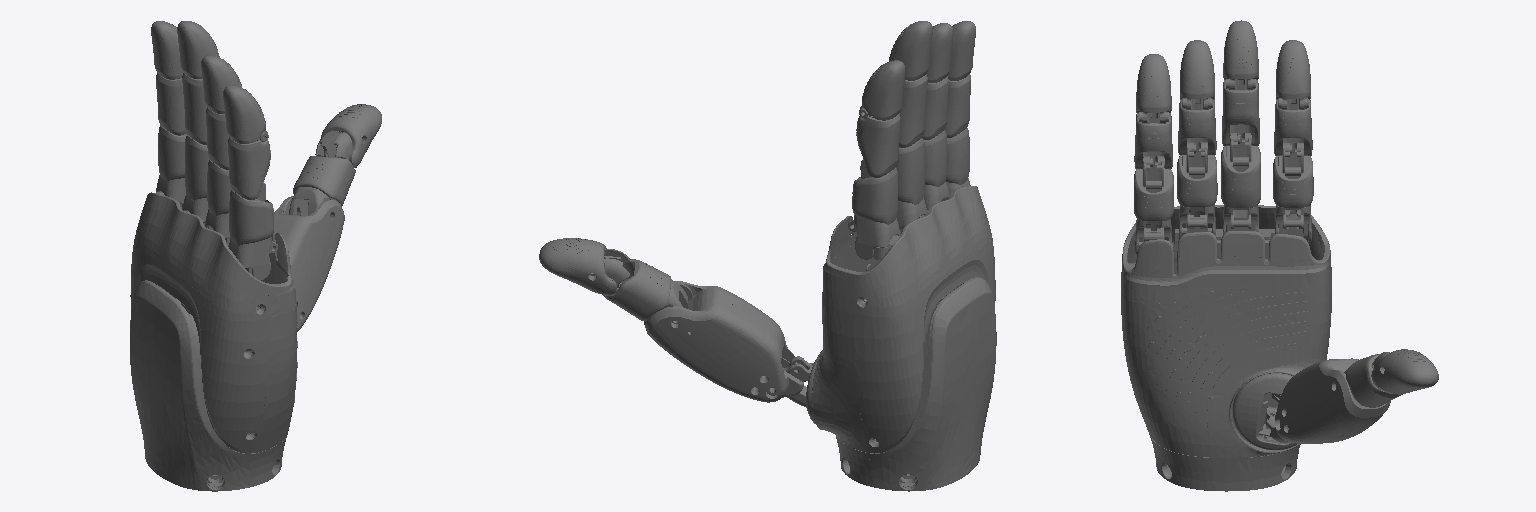
robot.urdf — omnihand_pro_right:
<?xml version="1.0" ?>
<!-- =================================================================================== -->
<!-- |    This document was autogenerated by xacro from xacro/omnihand_pro_right.xacro | -->
<!-- |    EDITING THIS FILE BY HAND IS NOT RECOMMENDED                                 | -->
<!-- =================================================================================== -->
<robot name="omnihand_pro_right">
  <material name="black">
    <color rgba="0.5 0.5 0.5 1.0"/>
  </material>
  <link name="base_link">
    <visual>
      <origin rpy="0.0 0.0 0.0" xyz="0.0 0.0 0.0"/>
      <geometry>
        <box size="0.001 0.001 0.001"/>
      </geometry>
    </visual>
  </link>
  <joint name="R_palm_joint" type="fixed">
    <origin rpy="0.0 0.0 0.0" xyz="0.0 0.0 0.0"/>
    <parent link="base_link"/>
    <child link="R_palm"/>
  </joint>
  <link name="R_palm">
    <visual>
      <origin rpy="0 0 0" xyz="0 0 0"/>
      <geometry>
        <mesh filename="package://omnihand_pro_description/meshes/r_palm.STL"/>
      </geometry>
      <material name="black"/>
    </visual>
    <inertial>
      <origin rpy="0 0 0" xyz="-0.00425607657857528 -0.000984907743219104 0.0569954669646572"/>
      <mass value="0.831592534870634"/>
      <inertia ixx="0.00130295787397277" ixy="-1.00395530019145e-06" ixz="-2.62221439754335e-05" iyy="0.000759187526142393" iyz="2.944807671301e-05" izz="0.000650439149629946"/>
    </inertial>
    <collision>
      <origin rpy="0 0 0" xyz="0 0 0.005"/>
      <geometry>
        <cylinder length="0.01" radius="0.032"/>
      </geometry>
    </collision>
    <collision>
      <origin rpy="0 0 0" xyz="0 0 0.057"/>
      <geometry>
        <box size="0.05 0.09 0.09"/>
      </geometry>
    </collision>
  </link>
  <!-- thumb  -->
  <link name="R_thumb_roll_link">
    <visual>
      <origin rpy="0 0 0" xyz="0 0 0"/>
      <geometry>
        <mesh filename="package://omnihand_pro_description/meshes/r_thumb_roll.STL"/>
      </geometry>
      <material name="black"/>
    </visual>
    <inertial>
      <origin rpy="0 0 0" xyz="0.0238985392698507 8.492755494241e-05 0.00143588019194235"/>
      <mass value="0.0487218724123021"/>
      <inertia ixx="1.16014813613108e-05" ixy="-1.23718071545455e-07" ixz="-3.36389573955908e-07" iyy="6.59632610273689e-06" iyz="-2.95789245057348e-07" izz="6.64077304903063e-06"/>
    </inertial>
  </link>
  <joint name="R_thumb_roll_joint" type="revolute">
    <origin rpy="-1.7628 0 0" xyz="-0.00148 0.022278 0.04025"/>
    <parent link="R_palm"/>
    <child link="R_thumb_roll_link"/>
    <axis xyz="1 0 0"/>
    <limit effort="0.134" lower="0" upper="0.73" velocity="2.38"/>
  </joint>
  <link name="R_thumb_abad_link">
    <visual>
      <origin rpy="0 0 0" xyz="0 0 0"/>
      <geometry>
        <mesh filename="package://omnihand_pro_description/meshes/r_thumb_abad.STL"/>
      </geometry>
      <material name="black"/>
    </visual>
    <inertial>
      <origin rpy="0 0 0" xyz="0.00144112186551029 -0.00076971553695547 0.0110530851904386"/>
      <mass value="0.00527730022012764"/>
      <inertia ixx="5.13938107714071e-07" ixy="2.10724699229959e-09" ixz="1.0099134807133e-08" iyy="3.23678037229255e-07" iyz="-6.91586588373309e-08" izz="2.43364847603047e-07"/>
    </inertial>
    <collision>
      <origin rpy="0 0 0.9" xyz="0 0 0"/>
      <geometry>
        <box size="0.035 0.006 0.02"/>
      </geometry>
    </collision>
  </link>
  <joint name="R_thumb_abad_joint" type="revolute">
    <origin rpy="0 1.0996 0" xyz="0.029071 0 0.0033014"/>
    <parent link="R_thumb_roll_link"/>
    <child link="R_thumb_abad_link"/>
    <axis xyz="0 -1 0"/>
    <limit effort="0.317" lower="-0.94" upper="0" velocity="2.33"/>
  </joint>
  <link name="R_thumb_mcp_link">
    <visual>
      <origin rpy="0 0 0" xyz="0 0 0"/>
      <geometry>
        <mesh filename="package://omnihand_pro_description/meshes/thumb_mcp.STL"/>
      </geometry>
      <material name="black"/>
    </visual>
    <inertial>
      <origin rpy="0 0 0" xyz="0.00248919792890584 0.000126945293118824 0.0270125022282254"/>
      <mass value="0.0238744814807847"/>
      <inertia ixx="9.14065262802198e-06" ixy="1.29455343848178e-08" ixz="1.28925259059347e-07" iyy="1.13640026182741e-05" iyz="-1.59529488365259e-08" izz="2.86247043401986e-06"/>
    </inertial>
    <collision>
      <origin rpy="0 1.57 0" xyz="0.005 0 0.03"/>
      <geometry>
        <box size="0.064 0.023 0.03"/>
      </geometry>
    </collision>
  </link>
  <joint name="R_thumb_mcp_joint" type="revolute">
    <origin rpy="0 0.66452 -1.5708" xyz="0.0016774 -0.0068611 0.022935"/>
    <parent link="R_thumb_abad_link"/>
    <child link="R_thumb_mcp_link"/>
    <axis xyz="0 -1 0"/>
    <limit effort="0.8" lower="-0.85" upper="0" velocity="1.35"/>
  </joint>
  <link name="R_thumb_pip_link">
    <visual>
      <origin rpy="0 0 0" xyz="0 0 0"/>
      <geometry>
        <mesh filename="package://omnihand_pro_description/meshes/thumb_pip.STL"/>
      </geometry>
      <material name="black"/>
    </visual>
    <inertial>
      <origin rpy="0 0 0" xyz="-0.00238172899603142 0.000356731641777103 0.0132495532127846"/>
      <mass value="0.015089750823072"/>
      <inertia ixx="1.307652825223e-06" ixy="2.30842431261842e-09" ixz="1.78861814916216e-07" iyy="1.76921581769367e-06" iyz="1.30568351519278e-08" izz="8.42951187578533e-07"/>
    </inertial>
    <collision>
      <origin rpy="0 0 0" xyz="0 0.002 0.02"/>
      <geometry>
        <cylinder length="0.02" radius="0.01"/>
      </geometry>
    </collision>
  </link>
  <joint name="R_thumb_pip_joint" type="revolute">
    <origin rpy="0 0 0" xyz="0.0067768 0 0.05582"/>
    <parent link="R_thumb_mcp_link"/>
    <child link="R_thumb_pip_link"/>
    <axis xyz="0  -1 0"/>
    <limit effort="0.92" lower="-1.29" upper="0" velocity="1.87"/>
  </joint>
  <link name="R_thumb_dip_link">
    <visual>
      <origin rpy="0 0 0" xyz="0 0 0"/>
      <geometry>
        <mesh filename="package://omnihand_pro_description/meshes/thumb_dip.STL"/>
      </geometry>
      <material name="black"/>
    </visual>
    <inertial>
      <origin rpy="0 0 0" xyz="-0.00103086462486497 -4.35579912222428e-07 0.0111718009868479"/>
      <mass value="0.0166245749238282"/>
      <inertia ixx="1.55367650349561e-06" ixy="-6.28496740782693e-11" ixz="-2.68802086888384e-07" iyy="1.43025255900936e-06" iyz="-3.60153740856451e-11" izz="8.87371852515915e-07"/>
    </inertial>
    <collision>
      <origin rpy="0 0 0" xyz="0 0 0.015"/>
      <geometry>
        <cylinder length="0.03" radius="0.01"/>
      </geometry>
    </collision>
  </link>
  <joint name="R_thumb_dip_joint" type="revolute">
    <origin rpy="0 0 0" xyz=" -0.0025791  0 0.034516"/>
    <parent link="R_thumb_pip_link"/>
    <child link="R_thumb_dip_link"/>
    <axis xyz="0 -1 0"/>
    <limit effort="0.92" lower="-1.31" upper="0" velocity="1.9"/>
    <mimic joint="R_thumb_pip_joint" multiplier="0.8068" offset="0"/>
  </joint>
  <link name="R_thumb_tip">
    <collision>
      <origin rpy="0 0 0" xyz="0 0 0"/>
      <geometry>
        <sphere radius="0.001"/>
      </geometry>
    </collision>
  </link>
  <joint name="R_thumb_tip_joint" type="fixed">
    <origin rpy="0 0 0" xyz="-0.01107 0 0.02778"/>
    <parent link="R_thumb_dip_link"/>
    <child link="R_thumb_tip"/>
    <axis xyz="0 0 0"/>
  </joint>
  <!-- index  -->
  <link name="R_index_abad_link">
    <visual>
      <origin rpy="0 0 0" xyz="0 0 0"/>
      <geometry>
        <mesh filename="package://omnihand_pro_description/meshes/index_abad.STL"/>
      </geometry>
      <material name="black"/>
    </visual>
    <inertial>
      <origin rpy="0 0 0" xyz="0.00904689264775126 2.37541539321873e-06 0.00296439795566343"/>
      <mass value="0.00769184155607912"/>
      <inertia ixx="3.12253146637431e-07" ixy="-8.36823610669688e-11" ixz="3.47679984094986e-08" iyy="1.96445680122249e-07" iyz="-6.80359270914641e-11" izz="2.98132181313685e-07"/>
    </inertial>
  </link>
  <joint name="R_index_abad_joint" type="revolute">
    <origin rpy="0 0 0" xyz="-0.0134 0.030778 0.11936"/>
    <parent link="R_palm"/>
    <child link="R_index_abad_link"/>
    <axis xyz="1 0 0"/>
    <limit effort="1.001" lower="-0.26" upper="0.26" velocity="2.16"/>
  </joint>
  <link name="R_index_mcp_link">
    <visual>
      <origin rpy="0 0 0" xyz="0 0 0"/>
      <geometry>
        <mesh filename="package://omnihand_pro_description/meshes/index_mcp.STL"/>
      </geometry>
      <material name="black"/>
    </visual>
    <inertial>
      <origin rpy="0 0 0" xyz="-0.00199825952289442 2.64457175807586e-05 0.0201667389503313"/>
      <mass value="0.00942126624293676"/>
      <inertia ixx="1.22975708566729e-06" ixy="-2.28040809755226e-10" ixz="-5.99595621936577e-08" iyy="1.34371119474184e-06" iyz="7.2313211083901e-10" izz="3.61297485727319e-07"/>
    </inertial>
    <collision>
      <origin rpy="0 0 0" xyz="-0.002 0 0.016"/>
      <geometry>
        <cylinder length="0.038" radius="0.01"/>
      </geometry>
    </collision>
  </link>
  <joint name="R_index_mcp_joint" type="revolute">
    <origin rpy="0 0 0" xyz="0.01357 0 0"/>
    <parent link="R_index_abad_link"/>
    <child link="R_index_mcp_link"/>
    <axis xyz="0 1 0"/>
    <limit effort="0.42" lower="0" upper="1.33" velocity="2.22"/>
  </joint>
  <link name="R_index_pip_link">
    <visual>
      <origin rpy="0 0 0" xyz="0 0 0"/>
      <geometry>
        <mesh filename="package://omnihand_pro_description/meshes/index_pip.STL"/>
      </geometry>
      <material name="black"/>
    </visual>
    <inertial>
      <origin rpy="0 0 0" xyz="0.000915277748706721 2.44819798689566e-05 0.0134565632396798"/>
      <mass value="0.00438956668936868"/>
      <inertia ixx="3.90192390925837e-07" ixy="1.18711764286958e-10" ixz="3.07110243989117e-08" iyy="3.39842342249121e-07" iyz="-4.52776521802555e-11" izz="2.34598309279793e-07"/>
    </inertial>
    <collision>
      <origin rpy="0 0 0" xyz="0.001 0 0.015"/>
      <geometry>
        <cylinder length="0.022" radius="0.01"/>
      </geometry>
    </collision>
  </link>
  <joint name="R_index_pip_joint" type="revolute">
    <origin rpy="0 0 0" xyz="-0.0044047 0 0.039781"/>
    <parent link="R_index_mcp_link"/>
    <child link="R_index_pip_link"/>
    <axis xyz="0 1 0"/>
    <limit effort="0.216" lower="0" upper="1.48" velocity="2.49"/>
  </joint>
  <link name="R_index_dip_link">
    <visual>
      <origin rpy="0 0 0" xyz="0 0 0"/>
      <geometry>
        <mesh filename="package://omnihand_pro_description/meshes/finger_dip.STL"/>
      </geometry>
      <material name="black"/>
    </visual>
    <inertial>
      <origin rpy="0 0 0" xyz="-0.00788115735969092 1.62686611911711e-05 0.00734085069241115"/>
      <mass value="0.00919575167024177"/>
      <inertia ixx="6.1598320028546e-07" ixy="-4.87748545899042e-10" ixz="-1.46101909693797e-07" iyy="6.32146337383652e-07" iyz="1.82637544331928e-09" izz="3.00226734906959e-07"/>
    </inertial>
    <collision>
      <origin rpy="0 0 0" xyz="-0.006 0 0.013"/>
      <geometry>
        <cylinder length="0.02" radius="0.01"/>
      </geometry>
    </collision>
  </link>
  <joint name="R_index_dip_joint" type="revolute">
    <origin rpy="0 0 0" xyz=" 0.0058514  0 0.026478"/>
    <parent link="R_index_pip_link"/>
    <child link="R_index_dip_link"/>
    <axis xyz="0 1 0"/>
    <limit effort="0.216" lower="0" upper="1.31" velocity="2.85"/>
    <mimic joint="R_index_pip_joint" multiplier="1.0362" offset="0"/>
  </joint>
  <link name="R_index_tip">
    <collision>
      <origin rpy="0 0 0" xyz="0 0 0"/>
      <geometry>
        <sphere radius="0.001"/>
      </geometry>
    </collision>
  </link>
  <joint name="R_index_tip_joint" type="fixed">
    <origin rpy="0 0 0" xyz="-0.01465 0 0.02533"/>
    <parent link="R_index_dip_link"/>
    <child link="R_index_tip"/>
  </joint>
  <!-- middle  -->
  <link name="R_middle_abad_link">
    <visual>
      <origin rpy="0 0 0" xyz="0 0 0"/>
      <geometry>
        <mesh filename="package://omnihand_pro_description/meshes/middle_abad.STL"/>
      </geometry>
      <material name="black"/>
    </visual>
    <inertial>
      <origin rpy="0 0 0" xyz="0.00886137366293534 3.75661207696609e-09 0.00266832955690114"/>
      <mass value="0.00637102949978218"/>
      <inertia ixx="2.41627954466445e-07" ixy="-2.52962153485538e-12" ixz="2.44913153285072e-08" iyy="1.58576266250976e-07" iyz="-5.93368216213693e-13" izz="2.58849212903404e-07"/>
    </inertial>
  </link>
  <joint name="R_middle_abad_joint" type="revolute">
    <origin rpy="0 0 0" xyz="-0.0134 0.0066607 0.11936"/>
    <parent link="R_palm"/>
    <child link="R_middle_abad_link"/>
    <axis xyz="1 0 0"/>
    <limit effort="1.031" lower="-0.26" upper="0.26" velocity="2.16"/>
  </joint>
  <link name="R_middle_mcp_link">
    <visual>
      <origin rpy="0 0 0" xyz="0 0 0"/>
      <geometry>
        <mesh filename="package://omnihand_pro_description/meshes/middle_mcp.STL"/>
      </geometry>
      <material name="black"/>
    </visual>
    <inertial>
      <origin rpy="0 0 0" xyz="-0.00165476847526829 2.20979993567627e-06 0.0225332391057417"/>
      <mass value="0.0105445601098368"/>
      <inertia ixx="1.73042184201086e-06" ixy="-2.04331701697306e-10" ixz="-5.90285580204209e-08" iyy="1.85661332749592e-06" iyz="1.32105746258306e-09" izz="4.2136357029816e-07"/>
    </inertial>
    <collision>
      <origin rpy="0 0 0" xyz="-0.002 0 0.016"/>
      <geometry>
        <cylinder length="0.04" radius="0.01"/>
      </geometry>
    </collision>
  </link>
  <joint name="R_middle_mcp_joint" type="revolute">
    <origin rpy="0 0 0" xyz="0.01337 0 0"/>
    <parent link="R_middle_abad_link"/>
    <child link="R_middle_mcp_link"/>
    <axis xyz="0 1 0"/>
    <limit effort="0.413" lower="0" upper="1.33" velocity="2.22"/>
  </joint>
  <link name="R_middle_pip_link">
    <visual>
      <origin rpy="0 0 0" xyz="0 0 0"/>
      <geometry>
        <mesh filename="package://omnihand_pro_description/meshes/middle_pip.STL"/>
      </geometry>
      <material name="black"/>
    </visual>
    <inertial>
      <origin rpy="0 0 0" xyz="0.000830746222013005 -4.34482098339573e-05 0.0161492835641447"/>
      <mass value="0.00495728561619528"/>
      <inertia ixx="5.48440909443586e-07" ixy="-6.39554522791554e-11" ixz="4.33803111439142e-08" iyy="4.91459567907306e-07" iyz="6.02486738632266e-11" izz="2.62953076584762e-07"/>
    </inertial>
    <collision>
      <origin rpy="0 0 0" xyz="0.001 0 0.014"/>
      <geometry>
        <cylinder length="0.028" radius="0.01"/>
      </geometry>
    </collision>
  </link>
  <joint name="R_middle_pip_joint" type="revolute">
    <origin rpy="0 0 0" xyz="-0.0040396 0 0.044837"/>
    <parent link="R_middle_mcp_link"/>
    <child link="R_middle_pip_link"/>
    <axis xyz="0 1 0"/>
    <limit effort="0.136" lower="0" upper="1.71" velocity="2.16"/>
  </joint>
  <link name="R_middle_dip_link">
    <visual>
      <origin rpy="0 0 0" xyz="0 0 0"/>
      <geometry>
        <mesh filename="package://omnihand_pro_description/meshes/finger_dip.STL"/>
      </geometry>
      <material name="black"/>
    </visual>
    <inertial>
      <origin rpy="0 0 0" xyz="-0.00783321210053064 -0.000103726115592395 0.00739196062285884"/>
      <mass value="0.00919573396837047"/>
      <inertia ixx="6.17868791705364e-07" ixy="-4.75945812309197e-10" ixz="-1.44033848644933e-07" iyy="6.32143569461496e-07" iyz="1.83019369609838e-09" izz="2.98337914527375e-07"/>
    </inertial>
    <collision>
      <origin rpy="0 0 0" xyz="-0.006 0 0.014"/>
      <geometry>
        <cylinder length="0.018" radius="0.01"/>
      </geometry>
    </collision>
  </link>
  <joint name="R_middle_dip_joint" type="revolute">
    <origin rpy="0 0 0" xyz=" 0.005529  0 0.031336"/>
    <parent link="R_middle_pip_link"/>
    <child link="R_middle_dip_link"/>
    <axis xyz="0 1 0"/>
    <limit effort="0.136" lower="0" upper="1.31" velocity="2.48"/>
    <mimic joint="R_middle_pip_joint" multiplier="1.0924" offset="0"/>
  </joint>
  <link name="R_middle_tip">
    <collision>
      <origin rpy="0 0 0" xyz="0 0 0"/>
      <geometry>
        <sphere radius="0.001"/>
      </geometry>
    </collision>
  </link>
  <joint name="R_middle_tip_joint" type="fixed">
    <origin rpy="0 0 0" xyz="-0.01465 0 0.02533"/>
    <parent link="R_middle_dip_link"/>
    <child link="R_middle_tip"/>
  </joint>
  <joint name="R_ring_mcp_joint" type="revolute">
    <origin rpy="0.0 0.0 0.0" xyz="0.0001598 -0.013518 0.11972"/>
    <parent link="R_palm"/>
    <child link="R_ring_mcp_link"/>
    <axis xyz="0 1 0"/>
    <limit effort="0.444" lower="0" upper="1.38" velocity="2.54"/>
  </joint>
  <!-- ring  -->
  <link name="R_ring_mcp_link">
    <visual>
      <origin rpy="0 0 0" xyz="0 0 0"/>
      <geometry>
        <mesh filename="package://omnihand_pro_description/meshes/ring_mcp.STL"/>
      </geometry>
      <material name="black"/>
    </visual>
    <inertial>
      <origin rpy="0 0 0" xyz="-0.00161802170047008 -2.08220096852268e-05 0.0212342177709951"/>
      <mass value="0.0047795328266326"/>
      <inertia ixx="5.43923252152409e-07" ixy="-8.48896522637981e-11" ixz="2.4689478865027e-08" iyy="5.41640127982143e-07" iyz="-2.5218290048469e-10" izz="1.76501748993068e-07"/>
    </inertial>
    <collision>
      <origin rpy="0 0 0" xyz="-0.002 0 0.014"/>
      <geometry>
        <cylinder length="0.035" radius="0.01"/>
      </geometry>
    </collision>
  </link>
  <link name="R_ring_pip_link">
    <visual>
      <origin rpy="0 0 0" xyz="0 0 0"/>
      <geometry>
        <mesh filename="package://omnihand_pro_description/meshes/ring_pip.STL"/>
      </geometry>
      <material name="black"/>
    </visual>
    <inertial>
      <origin rpy="0 0 0" xyz="0.000940340714750308 -1.66667751162405e-05 0.0134216382614548"/>
      <mass value="0.0047795328266326"/>
      <inertia ixx="2.25767846748625e-07" ixy="4.61360531413437e-12" ixz="2.32301202429608e-09" iyy="1.61875511170868e-07" iyz="-9.05860342855209e-12" izz="1.17700137222491e-07"/>
    </inertial>
    <collision>
      <origin rpy="0 0 0" xyz="0.0015 0 0.014"/>
      <geometry>
        <cylinder length="0.028" radius="0.01"/>
      </geometry>
    </collision>
  </link>
  <joint name="R_ring_pip_joint" type="revolute">
    <origin rpy="0 0 0" xyz="-0.0039371 0 0.03983"/>
    <parent link="R_ring_mcp_link"/>
    <child link="R_ring_pip_link"/>
    <axis xyz="0 1 0"/>
    <limit effort="0.444" lower="0" upper="1.57" velocity="2.29"/>
    <mimic joint="R_ring_mcp_joint" multiplier="0.877" offset="0"/>
  </joint>
  <link name="R_ring_dip_link">
    <visual>
      <origin rpy="0 0 0" xyz="0 0 0"/>
      <geometry>
        <mesh filename="package://omnihand_pro_description/meshes/finger_dip.STL"/>
      </geometry>
      <material name="black"/>
    </visual>
    <inertial>
      <origin rpy="0 0 0" xyz="-0.0077943915041099 2.51275100347781e-05 0.00743291370409035"/>
      <mass value="0.00919575186910556"/>
      <inertia ixx="6.19370856718727e-07" ixy="-4.661874813998e-10" ixz="-1.42352843928183e-07" iyy="6.32145627609476e-07" iyz="1.83190371320788e-09" izz="2.9683840460863e-07"/>
    </inertial>
    <collision>
      <origin rpy="0 0 0" xyz="-0.006 0 0.014"/>
      <geometry>
        <cylinder length="0.018" radius="0.01"/>
      </geometry>
    </collision>
  </link>
  <joint name="R_ring_dip_joint" type="revolute">
    <origin rpy="0 0 0" xyz=" 0.006162  0 0.026407"/>
    <parent link="R_ring_pip_link"/>
    <child link="R_ring_dip_link"/>
    <axis xyz="0 1 0"/>
    <limit effort="0.444" lower="0" upper="1.31" velocity="2.62"/>
    <mimic joint="R_ring_mcp_joint" multiplier="0.9394" offset="0"/>
  </joint>
  <link name="R_ring_tip">
    <collision>
      <origin rpy="0 0 0" xyz="0 0 0"/>
      <geometry>
        <sphere radius="0.001"/>
      </geometry>
    </collision>
  </link>
  <joint name="R_ring_tip_joint" type="fixed">
    <origin rpy="0 0 0" xyz="-0.01465 0 0.02533"/>
    <parent link="R_ring_dip_link"/>
    <child link="R_ring_tip"/>
  </joint>
  <joint name="R_pinky_mcp_joint" type="revolute">
    <origin rpy="0.0 0.0 0.0" xyz="0.0001598 -0.033576 0.11272"/>
    <parent link="R_palm"/>
    <child link="R_pinky_mcp_link"/>
    <axis xyz="0 1 0"/>
    <limit effort="0.444" lower="0" upper="1.38" velocity="2.54"/>
  </joint>
  <!-- ring  -->
  <link name="R_pinky_mcp_link">
    <visual>
      <origin rpy="0 0 0" xyz="0 0 0"/>
      <geometry>
        <mesh filename="package://omnihand_pro_description/meshes/ring_mcp.STL"/>
      </geometry>
      <material name="black"/>
    </visual>
    <inertial>
      <origin rpy="0 0 0" xyz="-0.00161802170047008 -2.08220096852268e-05 0.0212342177709951"/>
      <mass value="0.0047795328266326"/>
      <inertia ixx="5.43923252152409e-07" ixy="-8.48896522637981e-11" ixz="2.4689478865027e-08" iyy="5.41640127982143e-07" iyz="-2.5218290048469e-10" izz="1.76501748993068e-07"/>
    </inertial>
    <collision>
      <origin rpy="0 0 0" xyz="-0.002 0 0.014"/>
      <geometry>
        <cylinder length="0.035" radius="0.01"/>
      </geometry>
    </collision>
  </link>
  <link name="R_pinky_pip_link">
    <visual>
      <origin rpy="0 0 0" xyz="0 0 0"/>
      <geometry>
        <mesh filename="package://omnihand_pro_description/meshes/ring_pip.STL"/>
      </geometry>
      <material name="black"/>
    </visual>
    <inertial>
      <origin rpy="0 0 0" xyz="0.000940340714750308 -1.66667751162405e-05 0.0134216382614548"/>
      <mass value="0.0047795328266326"/>
      <inertia ixx="2.25767846748625e-07" ixy="4.61360531413437e-12" ixz="2.32301202429608e-09" iyy="1.61875511170868e-07" iyz="-9.05860342855209e-12" izz="1.17700137222491e-07"/>
    </inertial>
    <collision>
      <origin rpy="0 0 0" xyz="0.0015 0 0.014"/>
      <geometry>
        <cylinder length="0.028" radius="0.01"/>
      </geometry>
    </collision>
  </link>
  <joint name="R_pinky_pip_joint" type="revolute">
    <origin rpy="0 0 0" xyz="-0.0039371 0 0.03983"/>
    <parent link="R_pinky_mcp_link"/>
    <child link="R_pinky_pip_link"/>
    <axis xyz="0 1 0"/>
    <limit effort="0.444" lower="0" upper="1.57" velocity="2.29"/>
    <mimic joint="R_pinky_mcp_joint" multiplier="0.877" offset="0"/>
  </joint>
  <link name="R_pinky_dip_link">
    <visual>
      <origin rpy="0 0 0" xyz="0 0 0"/>
      <geometry>
        <mesh filename="package://omnihand_pro_description/meshes/finger_dip.STL"/>
      </geometry>
      <material name="black"/>
    </visual>
    <inertial>
      <origin rpy="0 0 0" xyz="-0.0077943915041099 2.51275100347781e-05 0.00743291370409035"/>
      <mass value="0.00919575186910556"/>
      <inertia ixx="6.19370856718727e-07" ixy="-4.661874813998e-10" ixz="-1.42352843928183e-07" iyy="6.32145627609476e-07" iyz="1.83190371320788e-09" izz="2.9683840460863e-07"/>
    </inertial>
    <collision>
      <origin rpy="0 0 0" xyz="-0.006 0 0.014"/>
      <geometry>
        <cylinder length="0.018" radius="0.01"/>
      </geometry>
    </collision>
  </link>
  <joint name="R_pinky_dip_joint" type="revolute">
    <origin rpy="0 0 0" xyz=" 0.006162  0 0.026407"/>
    <parent link="R_pinky_pip_link"/>
    <child link="R_pinky_dip_link"/>
    <axis xyz="0 1 0"/>
    <limit effort="0.444" lower="0" upper="1.31" velocity="2.62"/>
    <mimic joint="R_pinky_mcp_joint" multiplier="0.9394" offset="0"/>
  </joint>
  <link name="R_pinky_tip">
    <collision>
      <origin rpy="0 0 0" xyz="0 0 0"/>
      <geometry>
        <sphere radius="0.001"/>
      </geometry>
    </collision>
  </link>
  <joint name="R_pinky_tip_joint" type="fixed">
    <origin rpy="0 0 0" xyz="-0.01465 0 0.02533"/>
    <parent link="R_pinky_dip_link"/>
    <child link="R_pinky_tip"/>
  </joint>
</robot>

--- Render facts (derived) ---
Views: 3 orthographic renders of the robot side by side, from view 1: azimuth 30°, elevation 25°; view 2: azimuth 150°, elevation 25°; view 3: azimuth 270°, elevation 25°.
Model omnihand_pro_right with 26 links and 25 joints (19 revolute, 6 fixed), rooted at base_link, posed every joint at zero.
Links seen in each view (by area): view 1: R_palm, R_thumb_mcp_link, R_pinky_mcp_link, R_thumb_pip_link, R_thumb_dip_link, R_pinky_pip_link, R_pinky_dip_link, R_index_mcp_link, R_middle_mcp_link, R_middle_dip_link, R_ring_mcp_link, R_index_dip_link (+4 smaller); view 2: R_palm, R_thumb_mcp_link, R_thumb_dip_link, R_index_mcp_link, R_thumb_pip_link, R_index_pip_link, R_middle_mcp_link, R_index_dip_link, R_middle_dip_link, R_middle_pip_link, R_ring_mcp_link, R_pinky_dip_link (+5 smaller); view 3: R_palm, R_thumb_mcp_link, R_middle_mcp_link, R_ring_mcp_link, R_index_mcp_link, R_pinky_mcp_link, R_thumb_roll_link, R_thumb_dip_link, R_index_dip_link, R_pinky_dip_link, R_middle_dip_link, R_ring_dip_link (+5 smaller).
Link boxes in pixels (<box>): R_palm: <box>130,191,297,491</box>; R_thumb_mcp_link: <box>274,196,344,331</box>; R_pinky_mcp_link: <box>228,182,277,279</box>; R_thumb_pip_link: <box>289,156,355,215</box>; R_thumb_dip_link: <box>315,104,381,167</box>; R_pinky_pip_link: <box>228,132,270,199</box>; R_pinky_dip_link: <box>223,85,267,143</box>; R_index_mcp_link: <box>156,125,186,207</box>; R_middle_mcp_link: <box>182,135,212,229</box>; R_middle_dip_link: <box>177,21,219,78</box>; R_ring_mcp_link: <box>205,160,231,238</box>; R_index_dip_link: <box>151,21,182,79</box>; R_palm: <box>812,186,996,491</box>; R_thumb_mcp_link: <box>644,281,803,402</box>; R_thumb_dip_link: <box>539,238,630,295</box>; R_index_mcp_link: <box>848,159,900,259</box>; R_thumb_pip_link: <box>603,259,687,320</box>; R_index_pip_link: <box>856,108,900,177</box>; R_middle_mcp_link: <box>896,138,927,233</box>; R_index_dip_link: <box>860,60,904,120</box>; R_middle_dip_link: <box>889,21,932,80</box>; R_middle_pip_link: <box>899,74,927,147</box>; R_ring_mcp_link: <box>924,130,949,209</box>; R_pinky_dip_link: <box>948,21,975,80</box>; R_palm: <box>1121,205,1331,491</box>; R_thumb_mcp_link: <box>1275,358,1390,443</box>; R_middle_mcp_link: <box>1221,133,1260,234</box>; R_ring_mcp_link: <box>1177,142,1217,238</box>; R_index_mcp_link: <box>1273,143,1313,241</box>; R_pinky_mcp_link: <box>1134,156,1173,254</box>; R_thumb_roll_link: <box>1233,373,1296,449</box>; R_thumb_dip_link: <box>1371,349,1438,394</box>; R_index_dip_link: <box>1276,40,1310,109</box>; R_pinky_dip_link: <box>1136,54,1171,123</box>; R_middle_dip_link: <box>1223,20,1258,89</box>; R_ring_dip_link: <box>1180,40,1214,109</box>.
Bounding box of the posed robot: 0.1703 × 0.1468 × 0.2241 m (x, y, z).
Meshes: 15 distinct files referenced, 20 mesh visuals loaded (15 binary STL).
